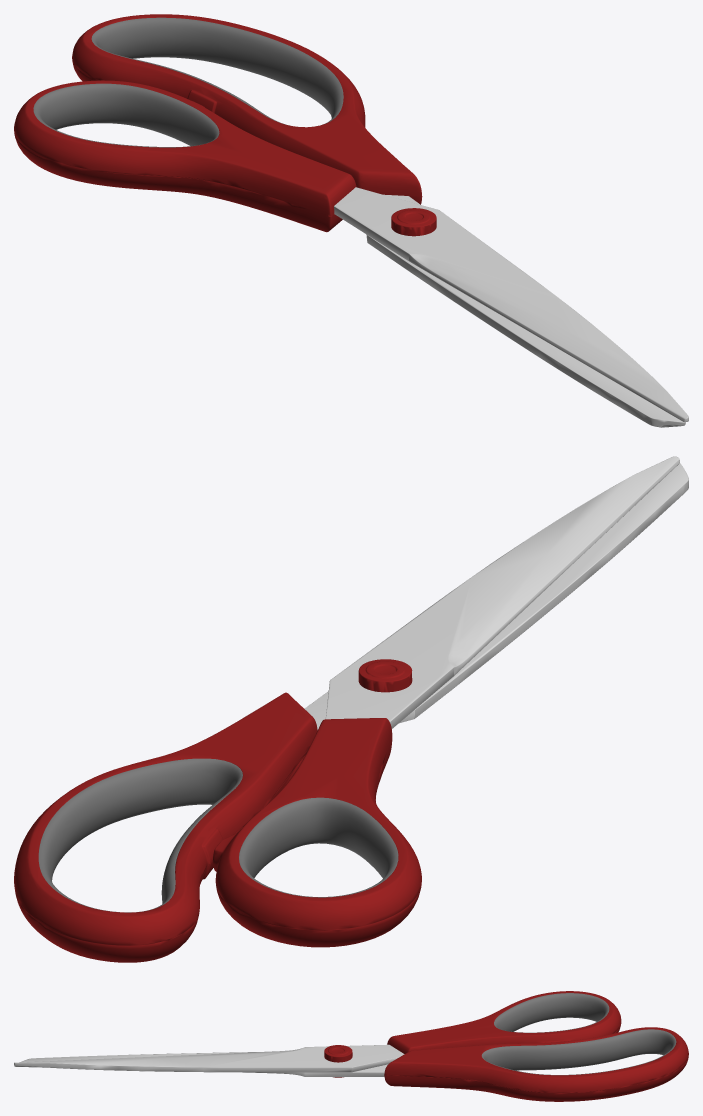
The model's file is long-scissors.glb.
The picture shows the model from 3 angles, top to bottom: view 1: azimuth 30°, elevation 25°; view 2: azimuth 150°, elevation 25°; view 3: azimuth 270°, elevation 25°; orthographic projection. The views are drawn at different scales.
Visible parts, largest first — view 1: Object_0, Object_6, Object_5; view 2: Object_0, Object_6, Object_5; view 3: Object_0, Object_5, Object_6.
Part boxes in pixels (x1,y1,x2,y2): Object_0: (14, 14, 436, 236); Object_6: (334, 187, 688, 427); Object_5: (33, 17, 343, 147); Object_0: (14, 659, 421, 962); Object_6: (304, 456, 688, 729); Object_5: (38, 758, 398, 912); Object_0: (324, 991, 688, 1101); Object_5: (481, 993, 676, 1075); Object_6: (14, 1044, 404, 1076).
Bounding box in the file's own units: 0.0814 × 0.01 × 0.25.
